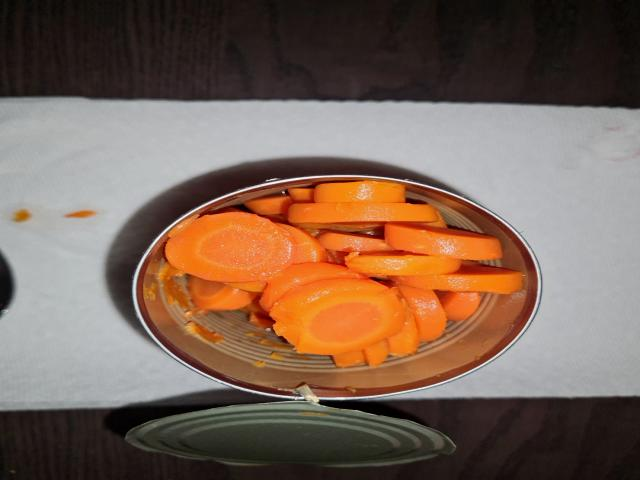kichen waste: (165, 182, 522, 366)
